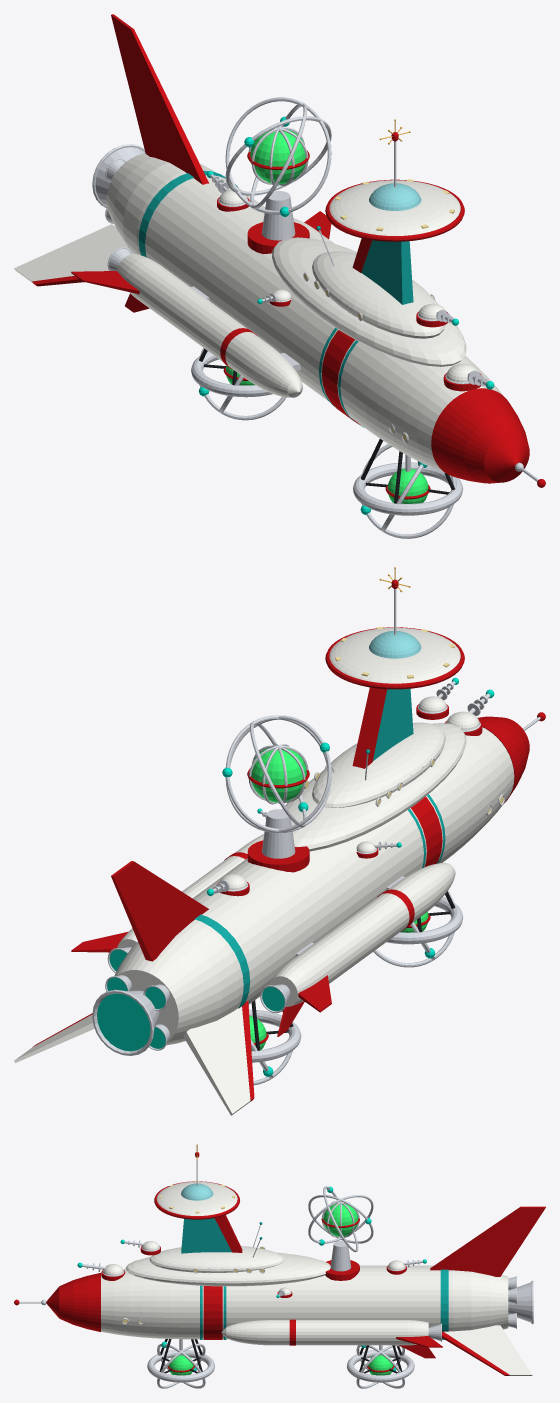
Rendered from cruiser.obj.
3 renders of one model, top to bottom at view 1: azimuth 30°, elevation 25°; view 2: azimuth 150°, elevation 25°; view 3: azimuth 270°, elevation 25°, orthographic. The views are drawn at different scales.
Visible parts, largest first — view 1: cruiser; view 2: cruiser; view 3: cruiser.
Part boxes in pixels (x1,y1,x2,y2): cruiser: [14, 14, 545, 538]; cruiser: [14, 567, 545, 1115]; cruiser: [14, 1144, 545, 1388].
Size of the model in its own units: 266 by 409 by 800.
Materials: 1 (1 with a texture image).
